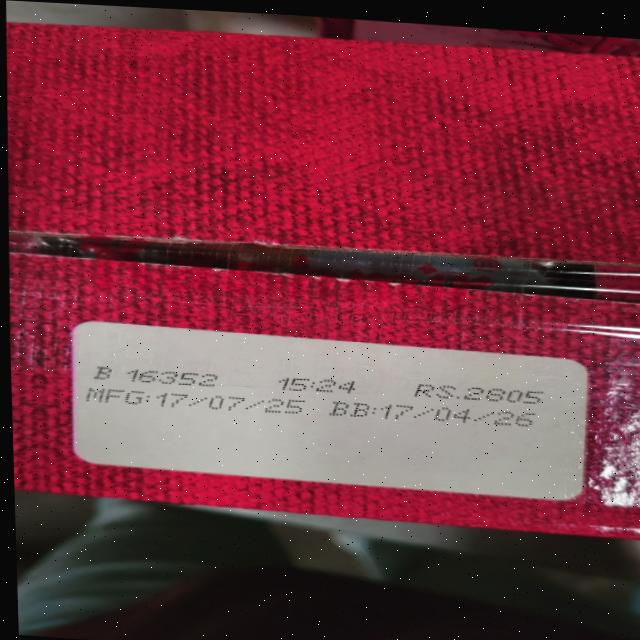BB: (328, 398, 539, 430)
Batch: (94, 365, 220, 388)
MFG: (87, 384, 305, 417)
RS: (412, 382, 548, 406)
TimeStamp: (275, 375, 361, 395)
